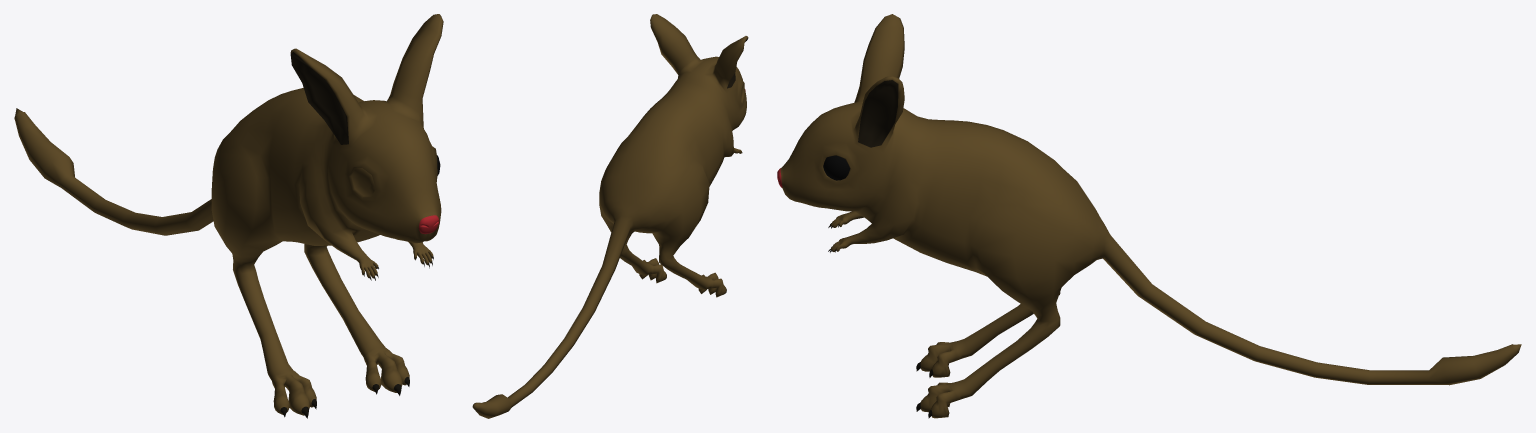
Rendered from jerboa.obj.
3 views of the same model, side by side, from view 1: azimuth 30°, elevation 25°; view 2: azimuth 150°, elevation 25°; view 3: azimuth 270°, elevation 25° (orthographic). The views are drawn at different scales.
Parts seen in each view (by area): view 1: jerboa; view 2: jerboa; view 3: jerboa.
Part boxes in pixels (x1=…): jerboa: x1=14, y1=14, x2=443, y2=418; jerboa: x1=472, y1=14, x2=748, y2=418; jerboa: x1=777, y1=14, x2=1521, y2=418.
Bounding box in the file's own units: 0.0455 × 0.1137 × 0.2211.
